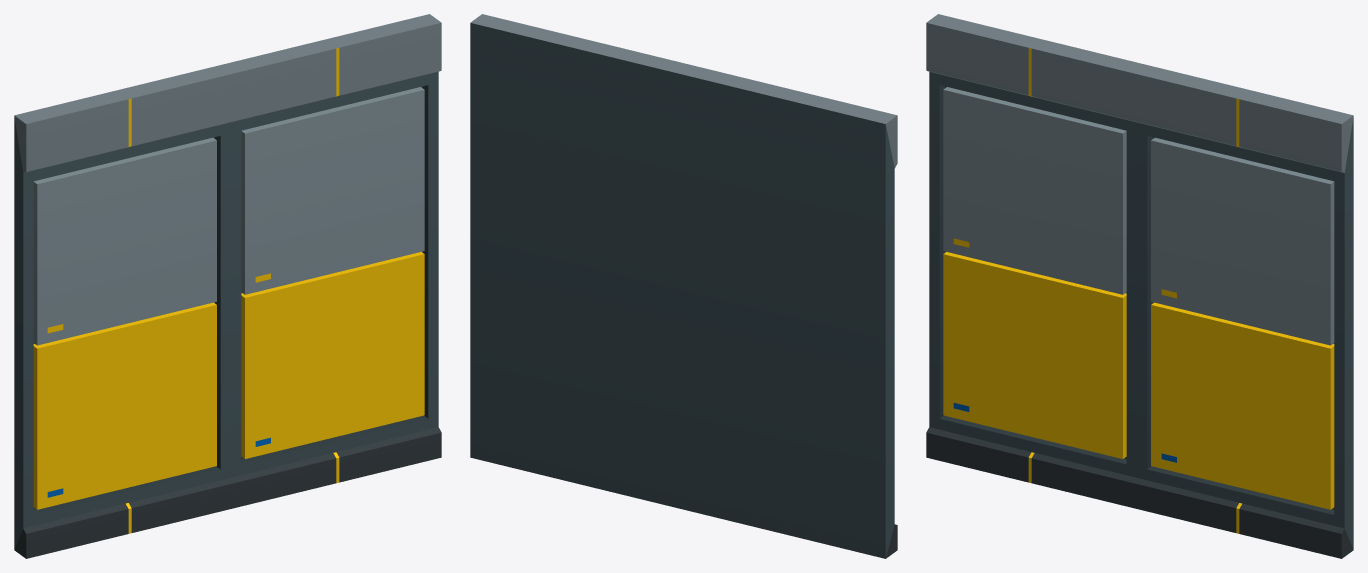
The model's file is Wall_type_C_008.fbx.
3 views of the same model, side by side, from view 1: azimuth 30°, elevation 25°; view 2: azimuth 150°, elevation 25°; view 3: azimuth 330°, elevation 25° (orthographic).
Visible parts, largest first — view 1: Wall_type_C_008; view 2: Wall_type_C_008; view 3: Wall_type_C_008.
Boxes of the visible parts, bbox=[...] form: Wall_type_C_008: bbox=[14, 14, 441, 558]; Wall_type_C_008: bbox=[470, 14, 897, 558]; Wall_type_C_008: bbox=[926, 14, 1353, 558].
Size of the model in its own units: 400 by 20 by 400.
